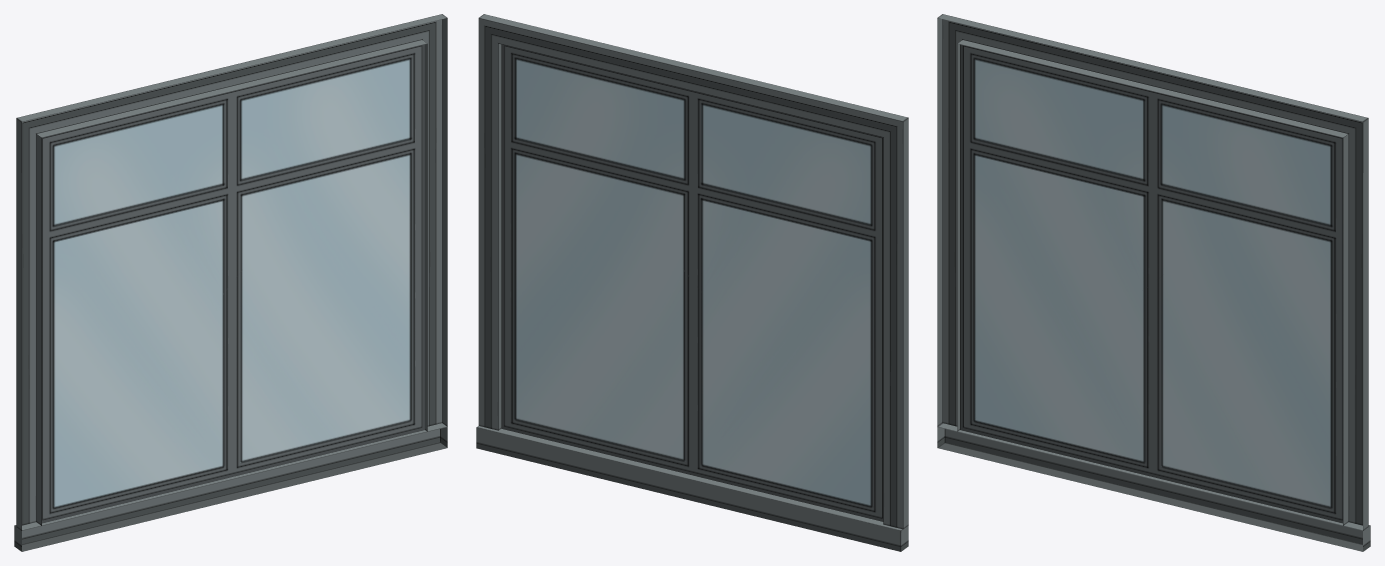
The model's file is window_day.fbx.
The picture shows the model from 3 angles, left to right: view 1: azimuth 30°, elevation 25°; view 2: azimuth 150°, elevation 25°; view 3: azimuth 330°, elevation 25°; orthographic projection.
Parts seen in each view (by area): view 1: polySurface406; view 2: polySurface406; view 3: polySurface406.
Boxes of the visible parts, box(x1,y1,x2,y2) form: polySurface406: box(14, 14, 447, 551); polySurface406: box(476, 14, 908, 551); polySurface406: box(937, 14, 1370, 551).
Size of the model in its own units: 2.73 by 2.63 by 0.0849.
